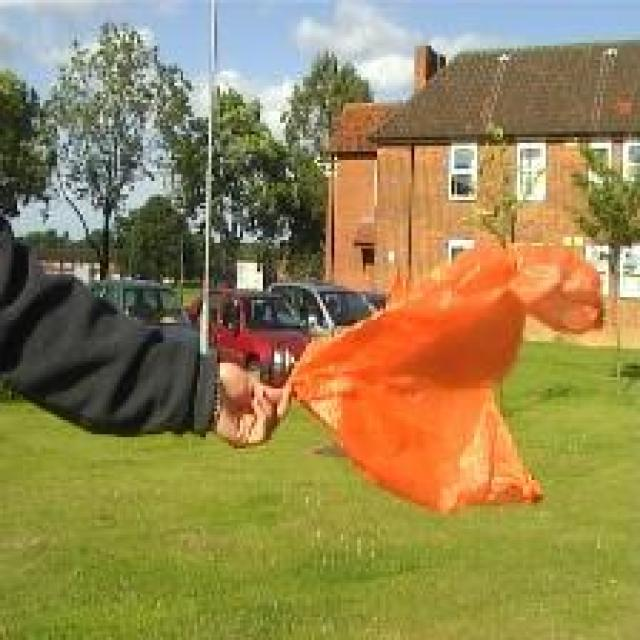other: (266, 220, 604, 508)
